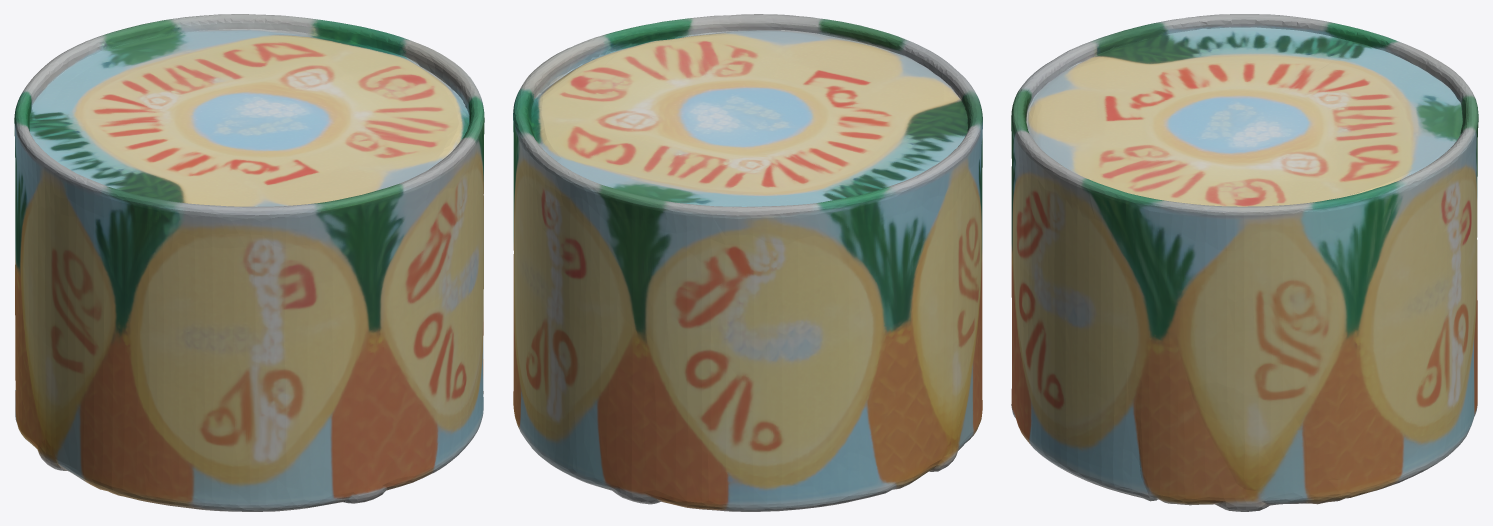
3 views of the same model, side by side, from view 1: azimuth 30°, elevation 25°; view 2: azimuth 150°, elevation 25°; view 3: azimuth 270°, elevation 25° (orthographic).
Visible parts, largest first — view 1: world; view 2: world; view 3: world.
Part boxes in pixels (box(x1,y1,x2,y2)): world: box(14, 14, 484, 511); world: box(513, 14, 982, 511); world: box(1011, 14, 1478, 511).
Bounding box in the file's own units: 0.6238 × 0.4477 × 0.6202.
1 material, 1 textured.
